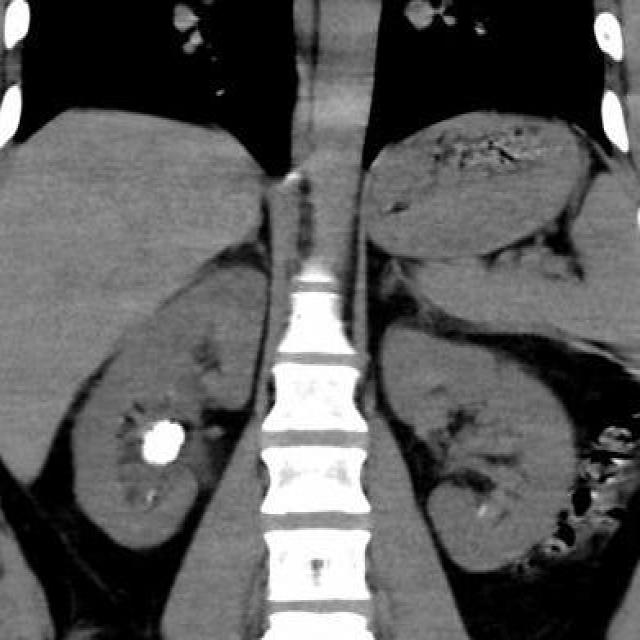Tas_Var: (133, 399, 195, 481), (142, 489, 161, 505), (475, 503, 489, 519)
